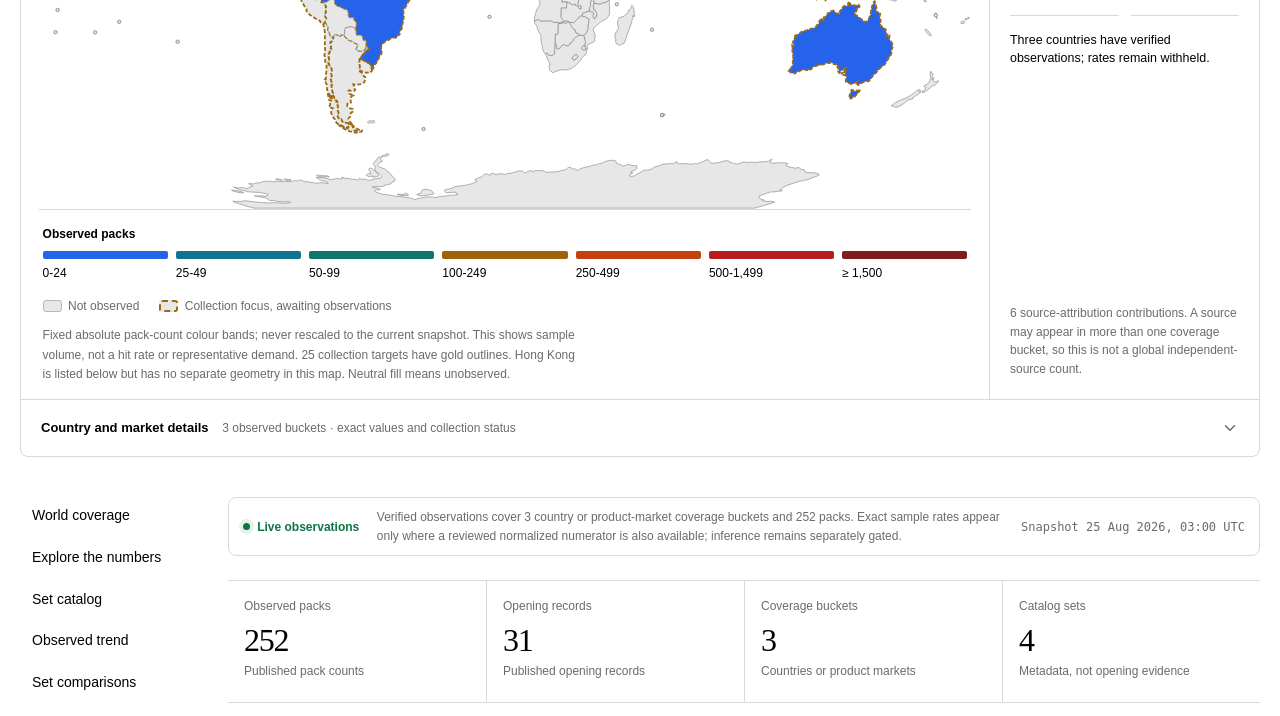
Test: HomeView › labels collecting observations as live coverage while withholding rates
(page scrolled)
Check: the text "Live observations" is shown, box [243,520,359,534]
Check: the text "Verified observations cover 3 country or product-market coverage buckets and 252 packs. Exact sample rates appear only w" is shown, box [377,510,1000,543]
Click the heading "Country and market details": coordinates (127, 428) [41,419,1239,437]
(page scrolled)
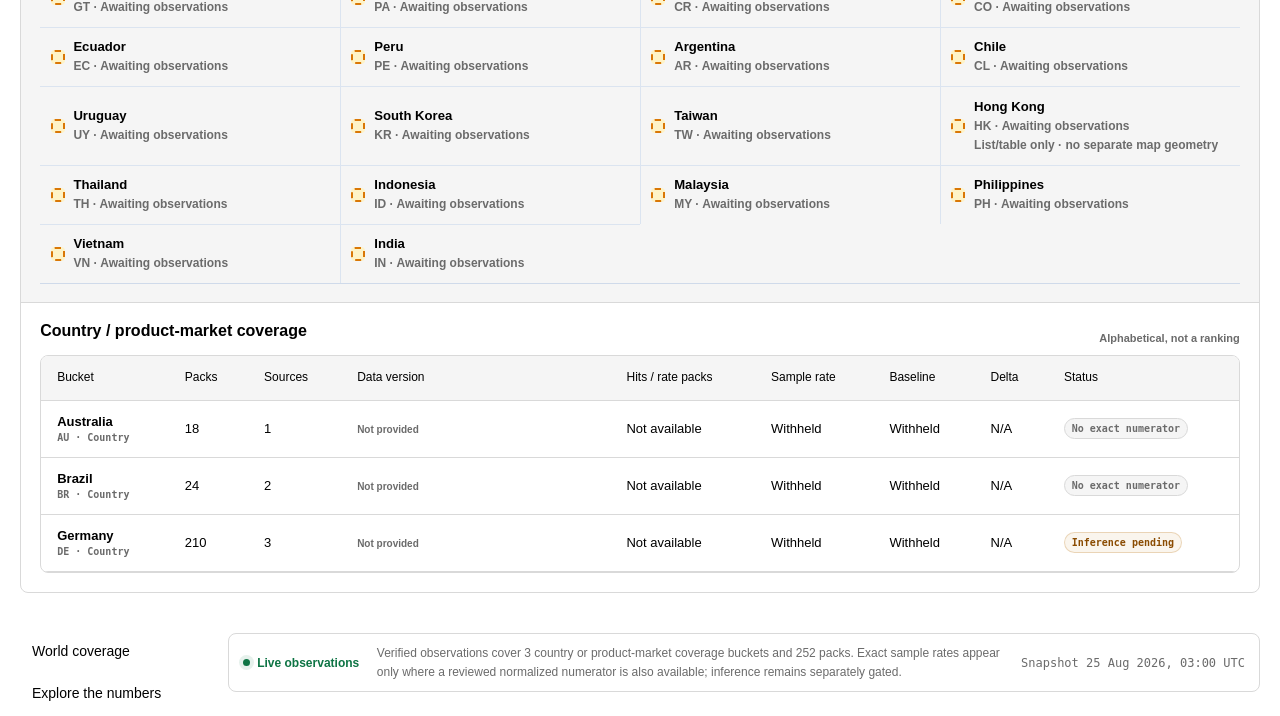
Check: the text "Inference pending" is shown, box [1064,532,1182,553]
Check: the 1st text "Withheld" is shown, box [755,401,873,457]
